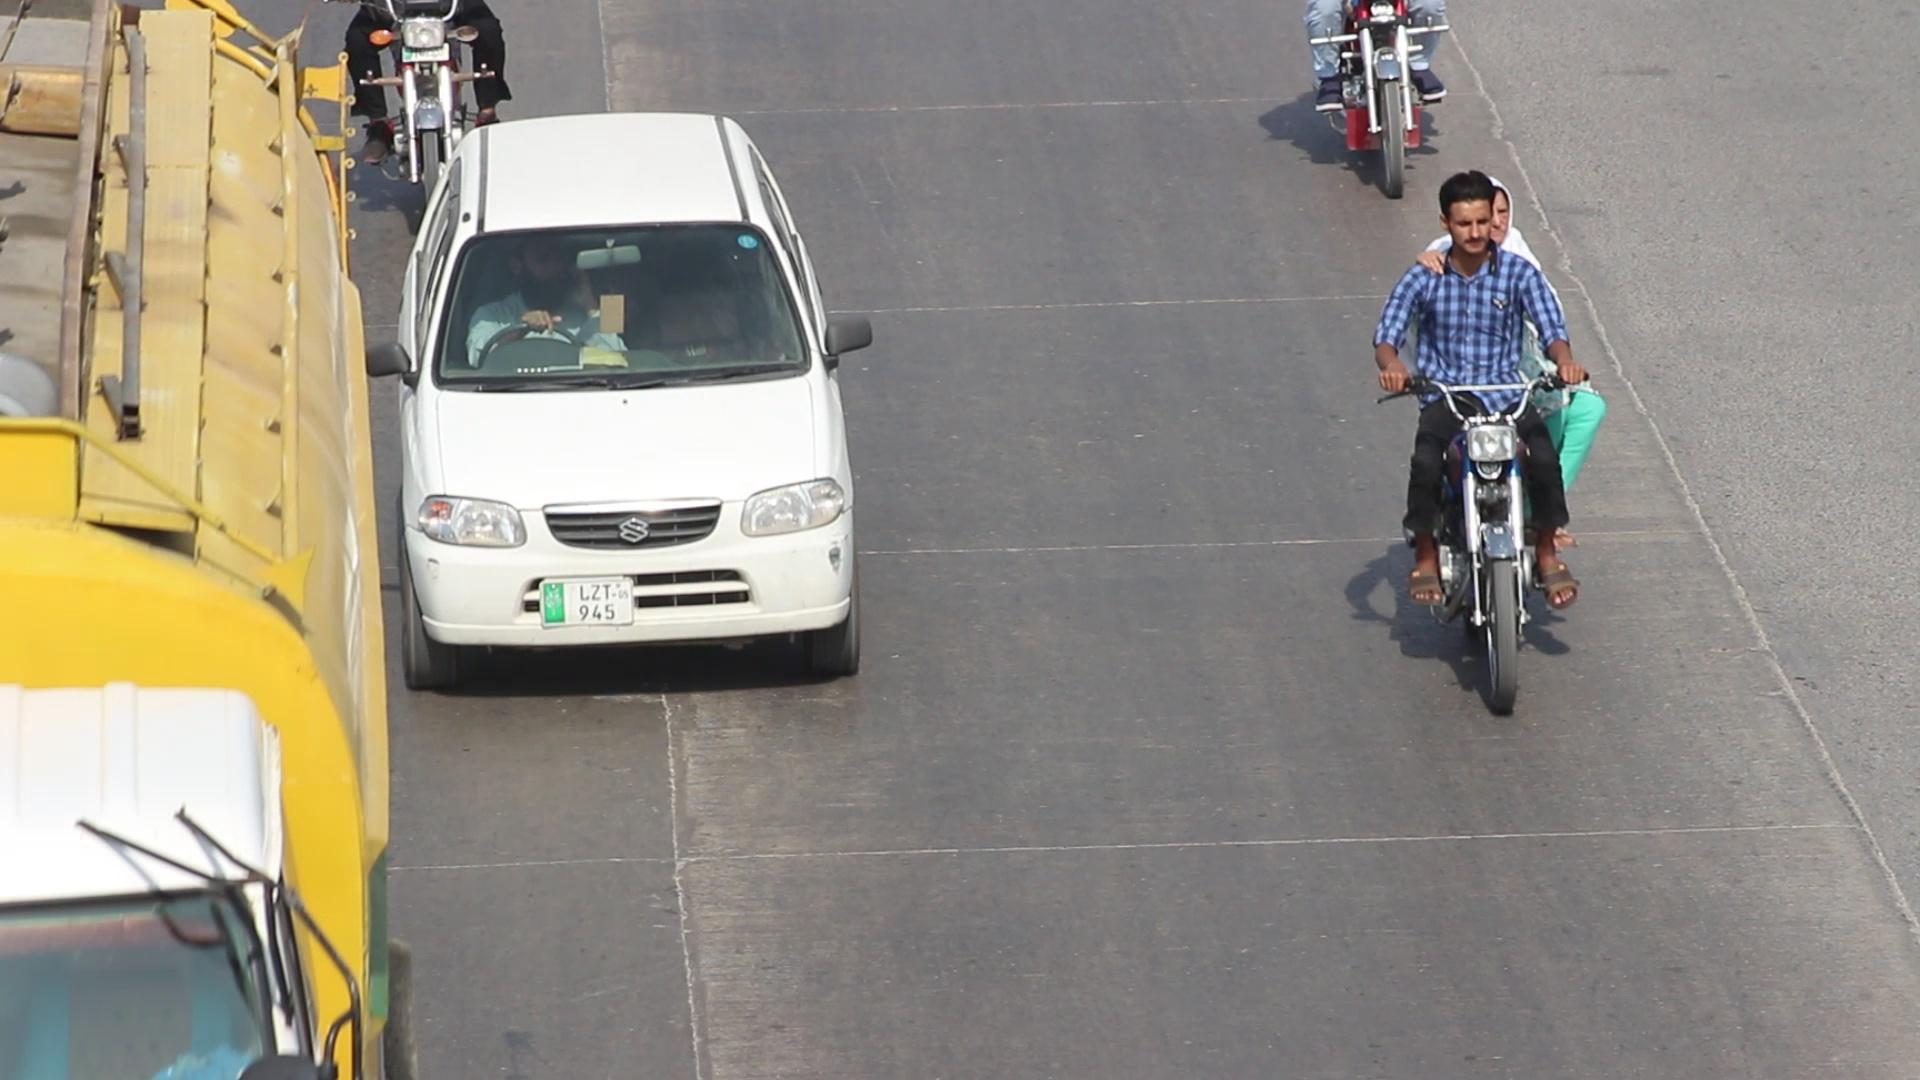windshield: (411, 216, 824, 397)
